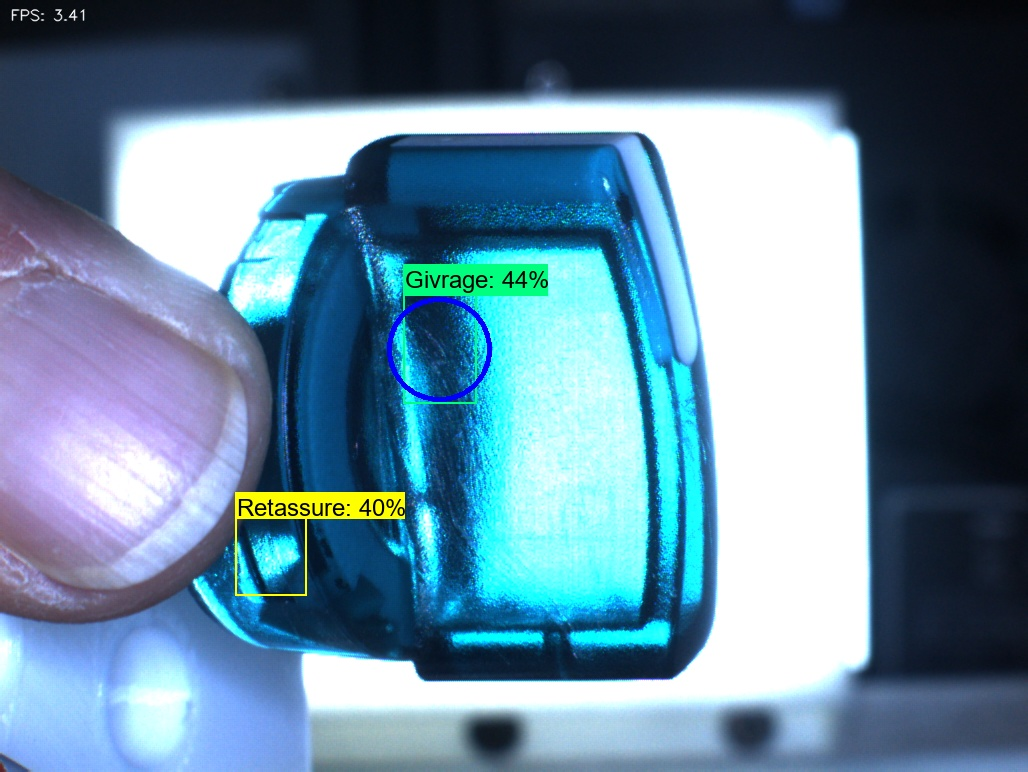Bulle: (520, 598, 595, 673)
